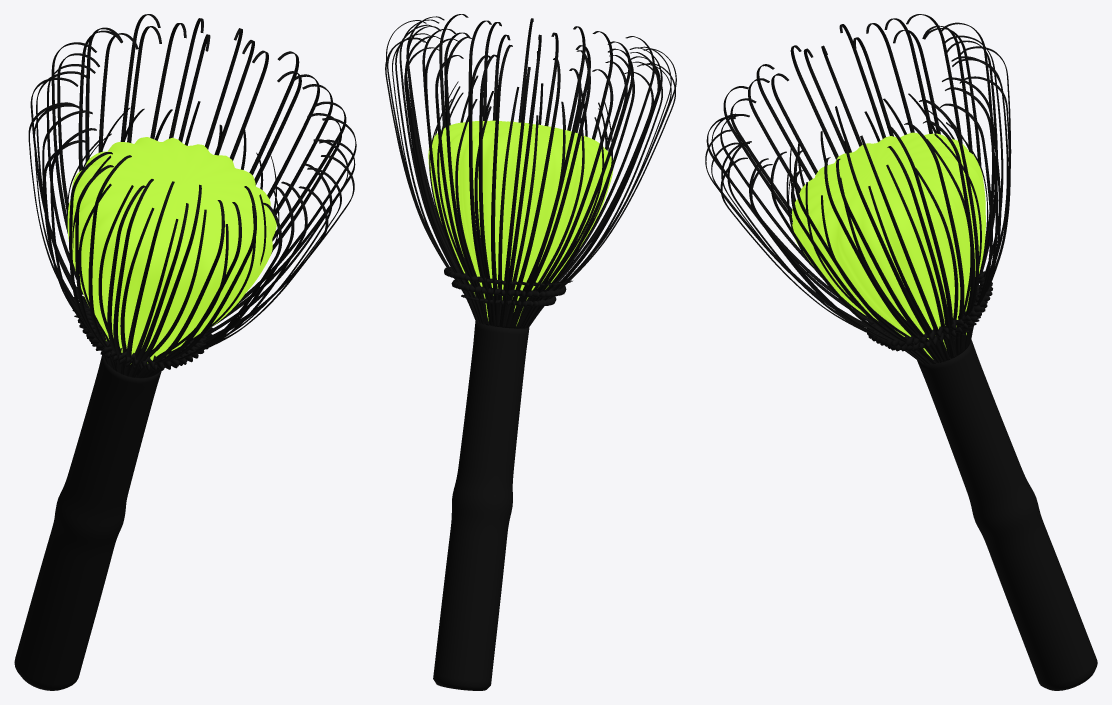
3 renders of one model, left to right at view 1: azimuth 30°, elevation 25°; view 2: azimuth 150°, elevation 25°; view 3: azimuth 270°, elevation 25°, orthographic. The views are drawn at different scales.
Parts seen in each view (by area): view 1: ho, hikari, e, ito; view 2: ho, e, hikari, ito; view 3: ho, e, hikari, ito.
Part boxes in pixels (x1,y1,x2,y2): ho: (28, 14, 356, 378); hikari: (67, 137, 276, 364); e: (14, 354, 161, 690); ito: (72, 287, 212, 371); ho: (385, 14, 676, 328); e: (433, 321, 529, 690); hikari: (428, 120, 613, 325); ito: (444, 267, 572, 306); ho: (705, 14, 1011, 364); e: (917, 339, 1097, 690); hikari: (792, 132, 985, 359); ito: (867, 271, 992, 351).
Size of the model in its own units: 0.9457 by 2.16 by 1.18.
